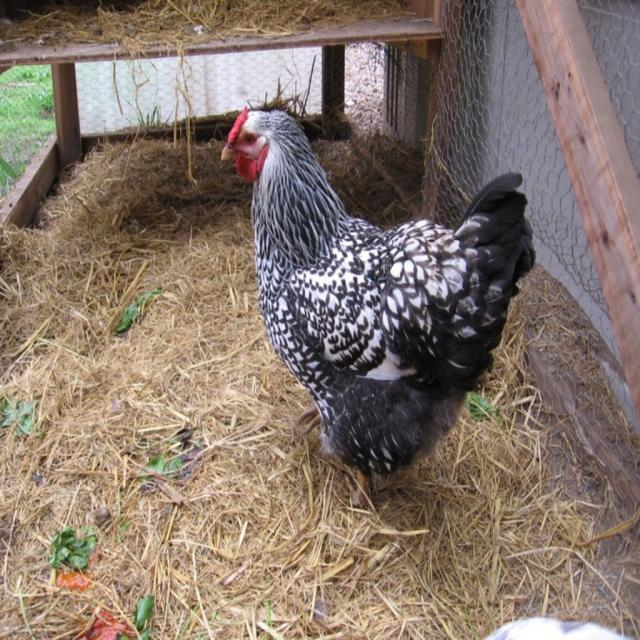Chicken: (215, 108, 540, 512)
